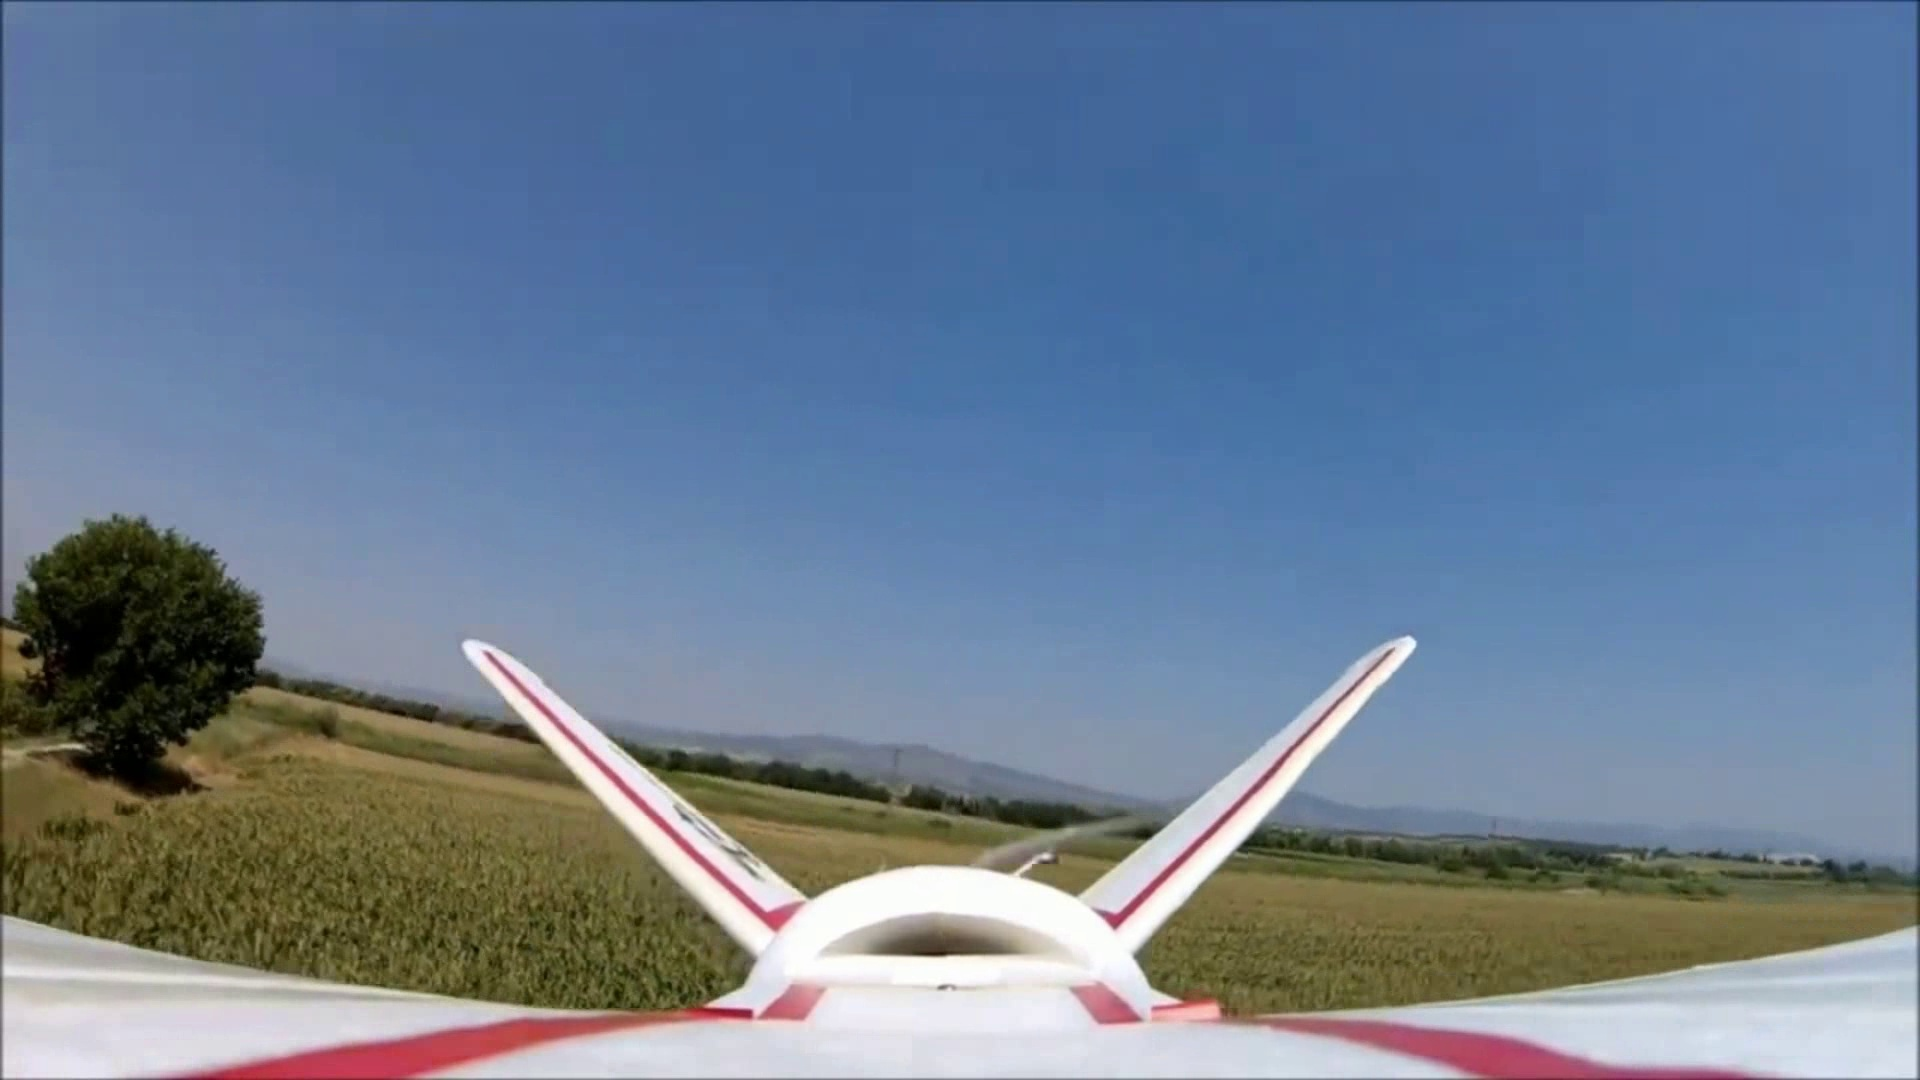airplane: (152, 632, 1414, 1039)
